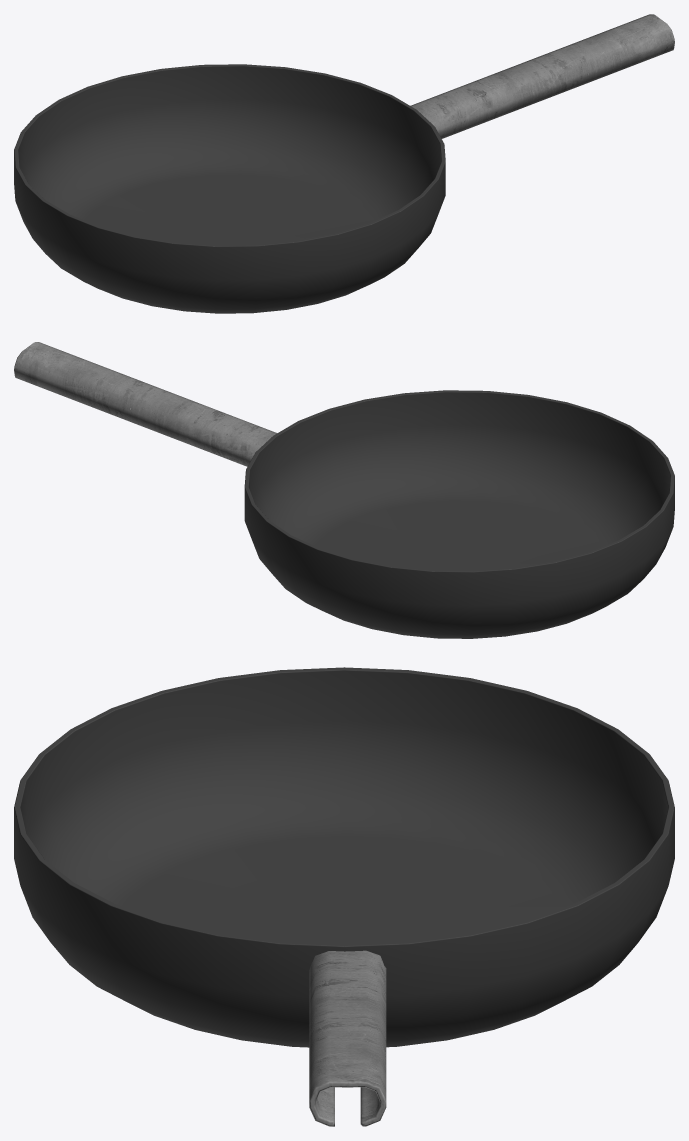
File: FryPan_01 1.FBX
The picture shows the model from 3 angles, top to bottom: view 1: azimuth 30°, elevation 25°; view 2: azimuth 150°, elevation 25°; view 3: azimuth 270°, elevation 25°; orthographic projection. The views are drawn at different scales.
Parts seen in each view (by area): view 1: FryPan_01; view 2: FryPan_01; view 3: FryPan_01.
Boxes of the visible parts, box(x1,y1,x2,y2) form: FryPan_01: box(14, 14, 674, 313); FryPan_01: box(14, 342, 674, 638); FryPan_01: box(14, 667, 674, 1126).
Size of the model in its own units: 49.87 by 9.34 by 30.
Materials: 1 (1 with a texture image).
